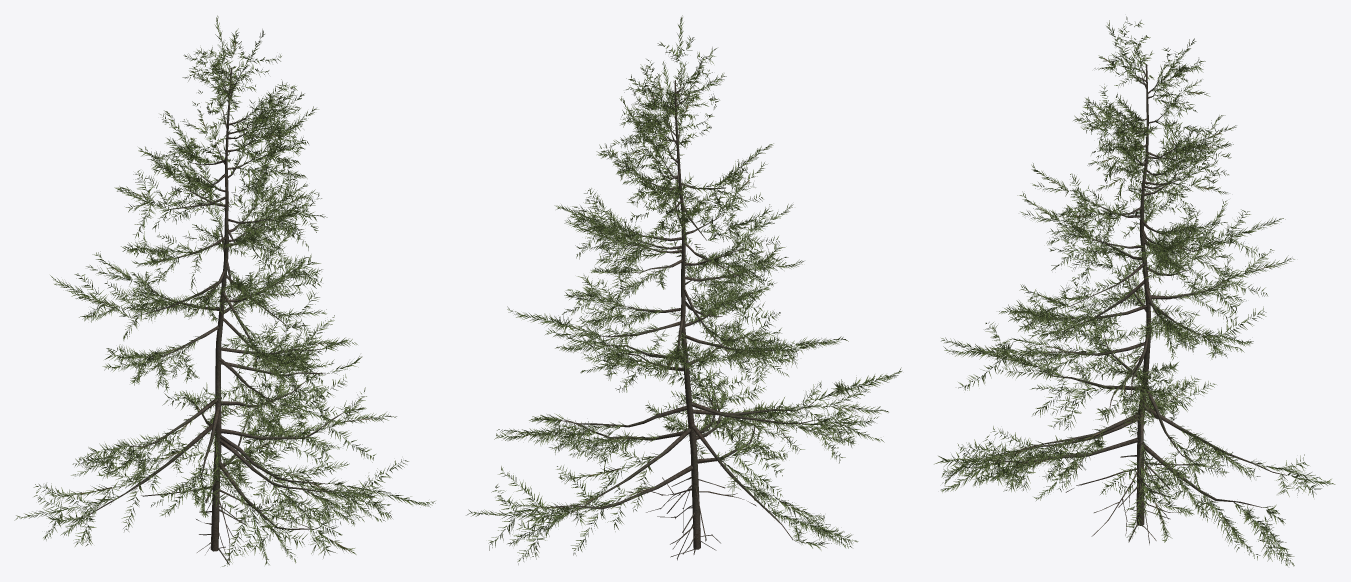
Rendered from fir_medium_c_lod0.gltf.
3 views of the same model, side by side, from view 1: azimuth 30°, elevation 25°; view 2: azimuth 150°, elevation 25°; view 3: azimuth 270°, elevation 25° (orthographic). The views are drawn at different scales.
Visible parts, largest first — view 1: fir_sapling_medium_c_LOD0.002, fir_sapling_medium_c_LOD0.001, fir_sapling_medium_c_LOD0; view 2: fir_sapling_medium_c_LOD0.002, fir_sapling_medium_c_LOD0.001, fir_sapling_medium_c_LOD0; view 3: fir_sapling_medium_c_LOD0.002, fir_sapling_medium_c_LOD0.001, fir_sapling_medium_c_LOD0.
Part boxes in pixels (x1=…): fir_sapling_medium_c_LOD0.002: x1=14, y1=15, x2=435, y2=566; fir_sapling_medium_c_LOD0.001: x1=84, y1=68, x2=342, y2=551; fir_sapling_medium_c_LOD0: x1=141, y1=476, x2=309, y2=565; fir_sapling_medium_c_LOD0.002: x1=466, y1=15, x2=901, y2=564; fir_sapling_medium_c_LOD0.001: x1=541, y1=80, x2=815, y2=549; fir_sapling_medium_c_LOD0: x1=646, y1=476, x2=756, y2=560; fir_sapling_medium_c_LOD0.002: x1=934, y1=16, x2=1335, y2=566; fir_sapling_medium_c_LOD0.001: x1=990, y1=63, x2=1286, y2=525; fir_sapling_medium_c_LOD0: x1=1065, y1=455, x2=1203, y2=544.
Bounding box in the file's own units: 4.24 × 5.84 × 4.01.
Materials: 3 (3 with a texture image).
